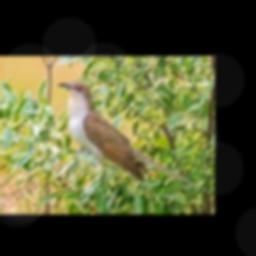Cuckoo: (56, 81, 210, 193)
